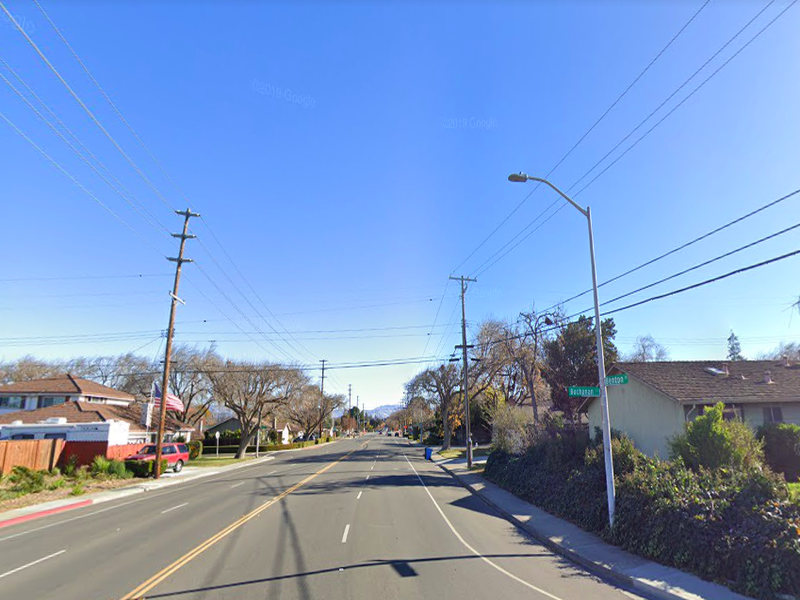utility_pole: (161, 200, 203, 281), (441, 266, 481, 305)
